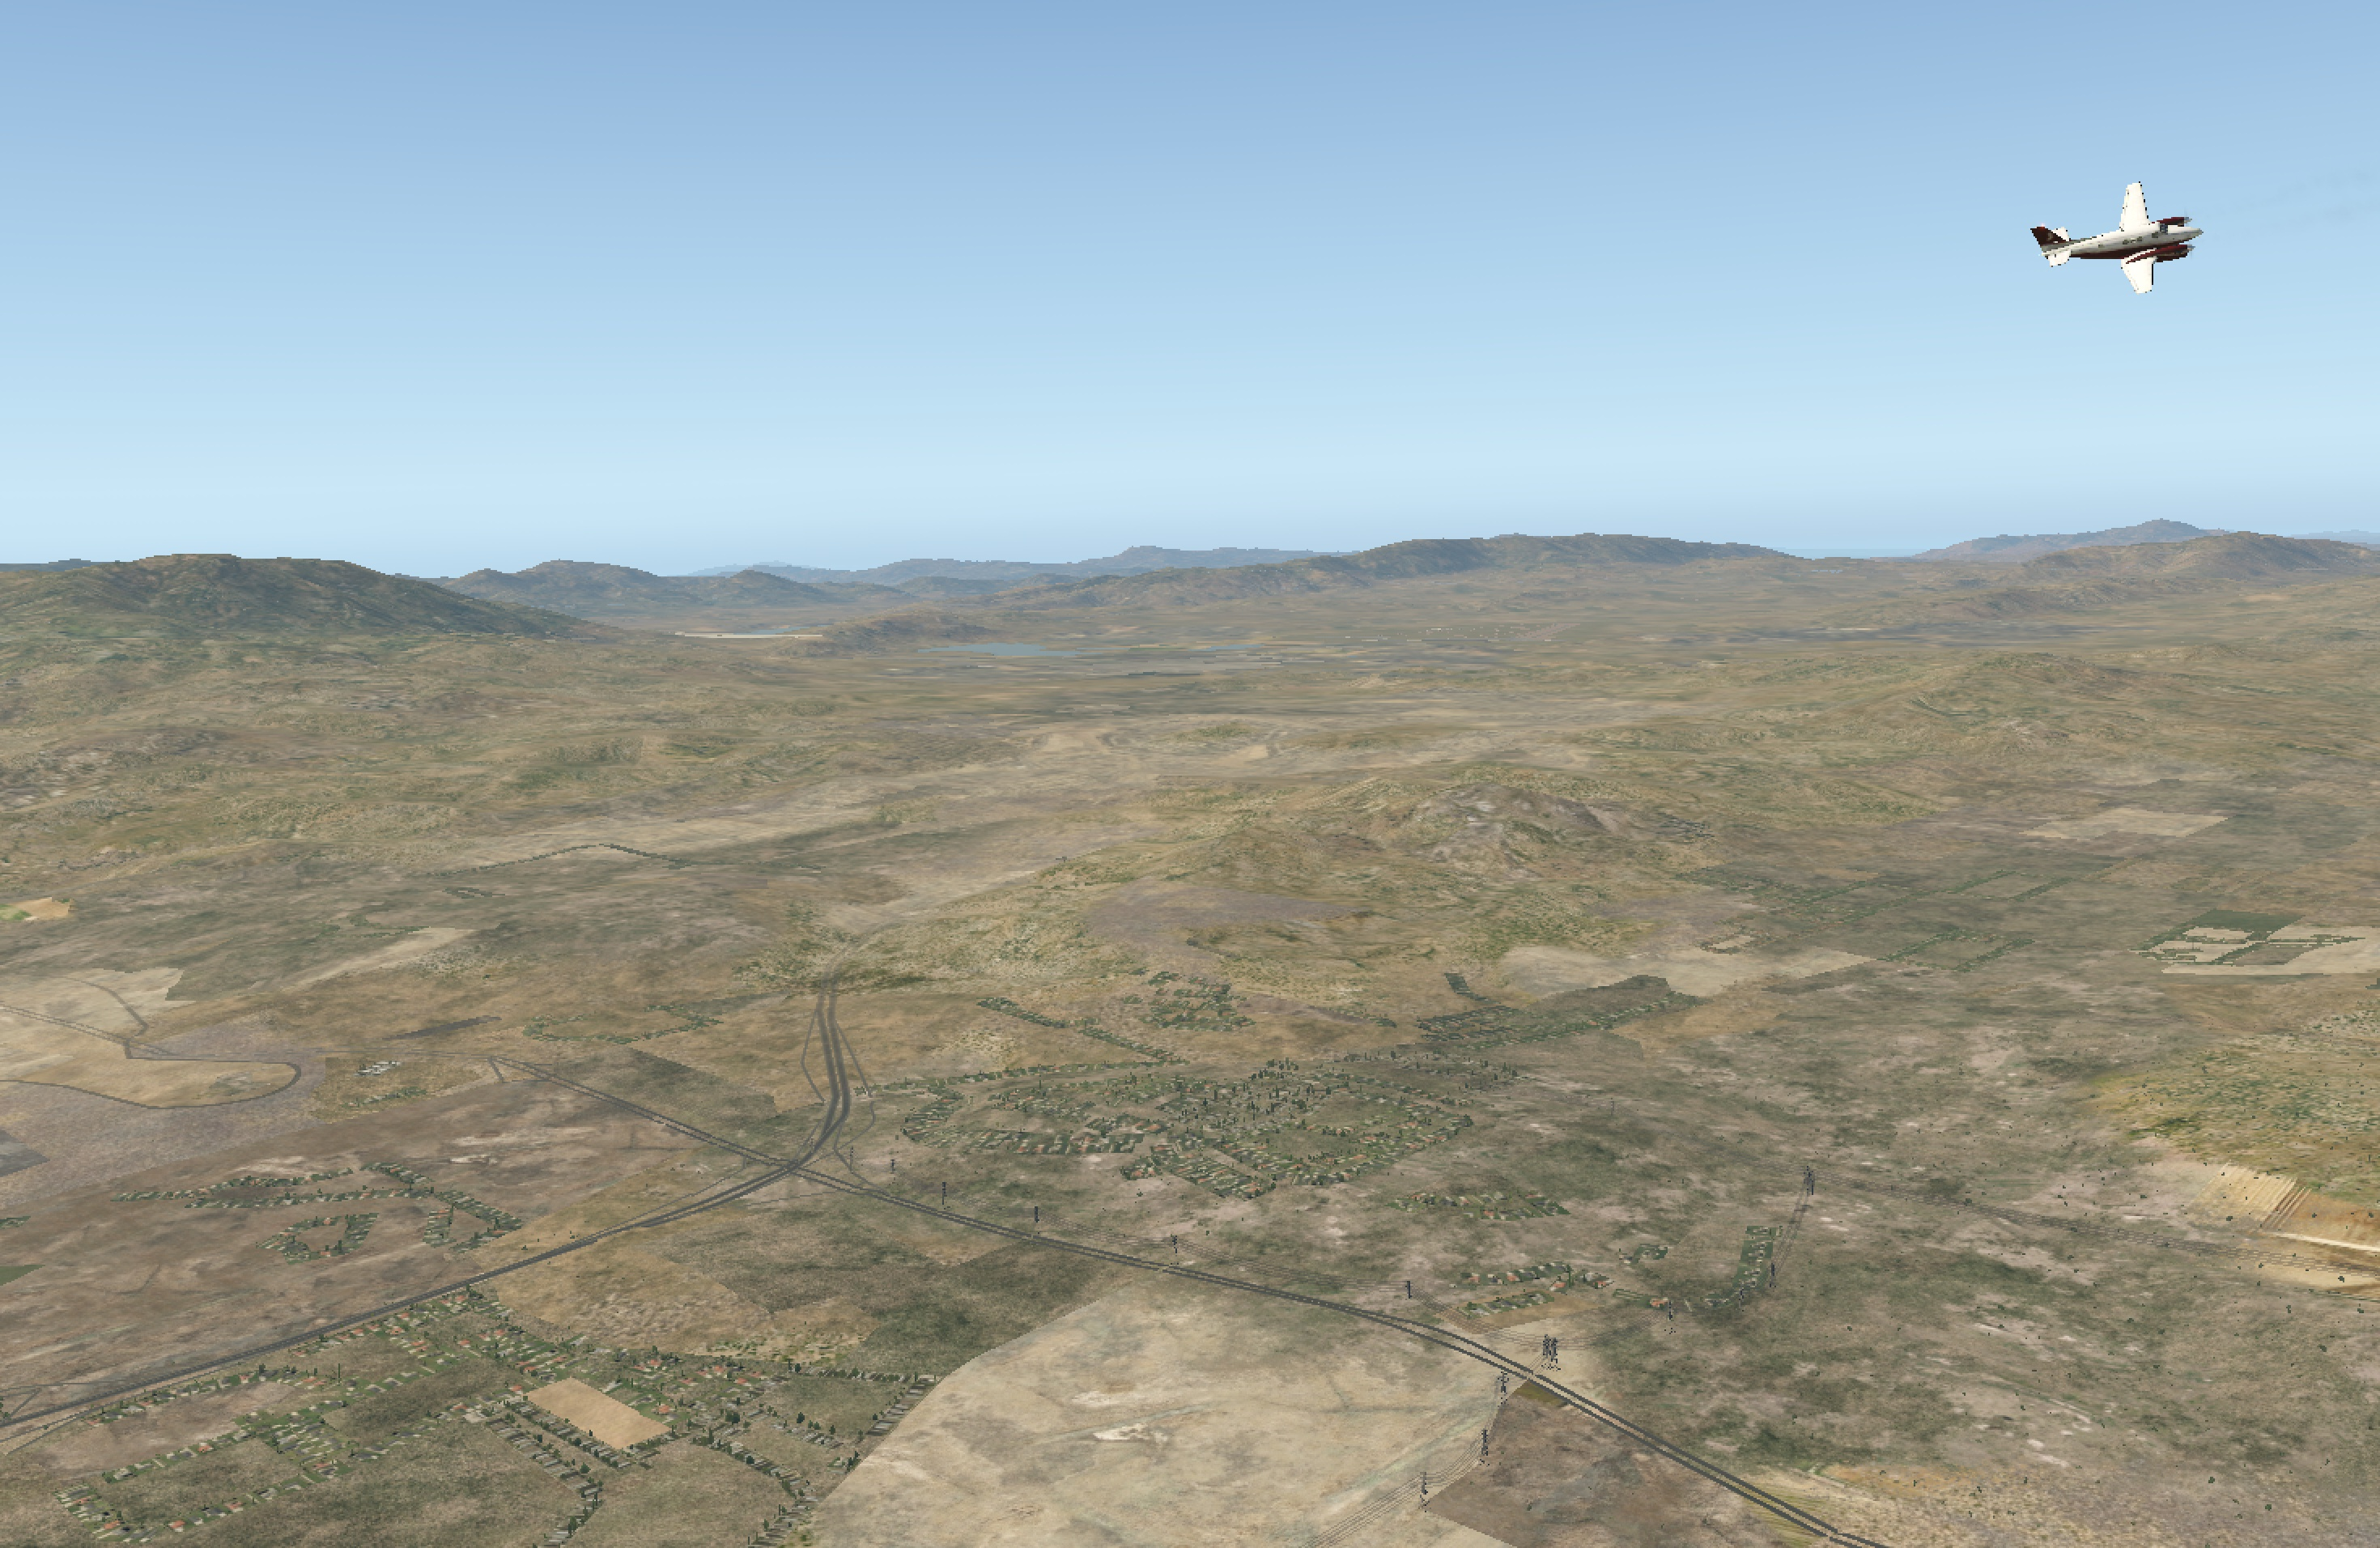aircraft: (2049, 210, 2247, 284)
